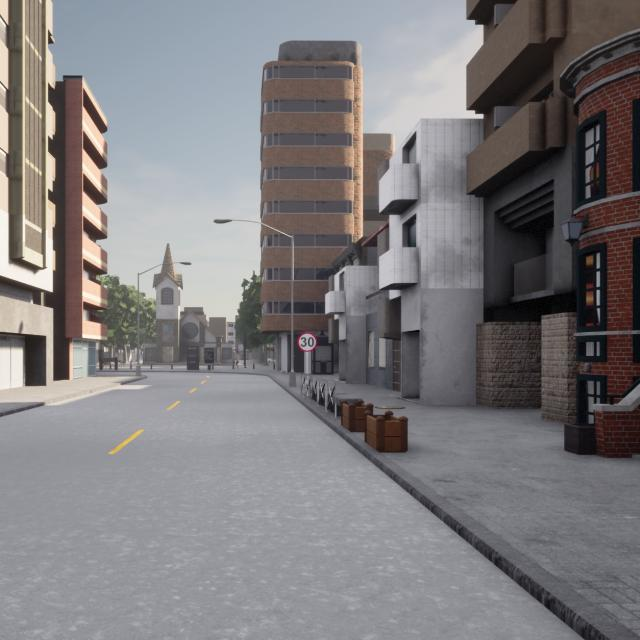Speed Limit -30-: (297, 332, 317, 352)
